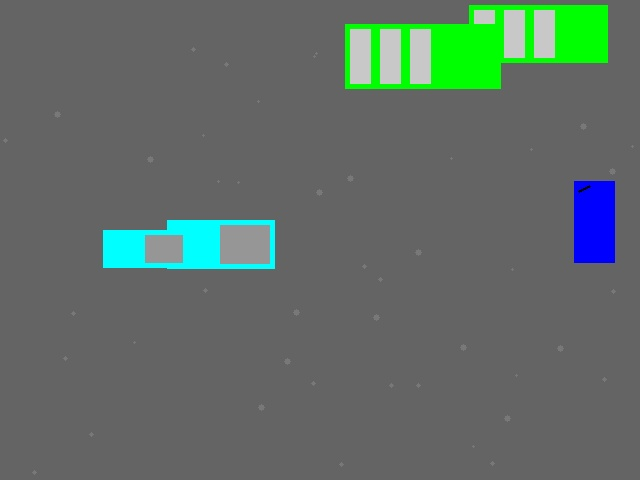bus: (345, 24, 500, 88), (469, 5, 607, 62)
motorcycle: (574, 181, 614, 262)
truck: (167, 220, 274, 268), (103, 230, 187, 267)
